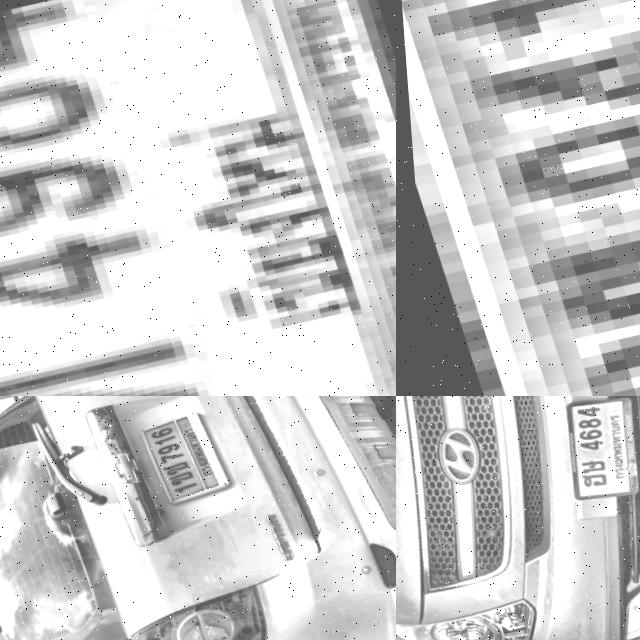license-plate: (0, 0, 396, 396), (396, 0, 640, 396), (529, 396, 640, 512), (128, 400, 236, 513)
